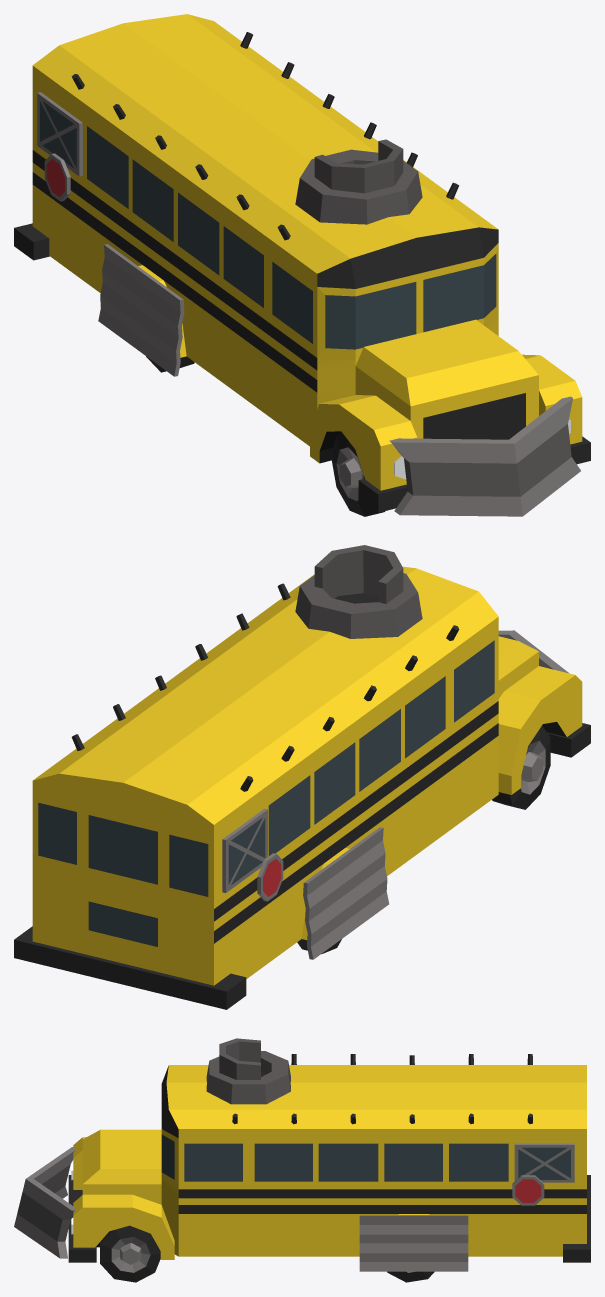
The model's file is vehicles_bus-school-apocalypse.fbx.
The picture shows the model from 3 angles, top to bottom: view 1: azimuth 30°, elevation 25°; view 2: azimuth 150°, elevation 25°; view 3: azimuth 270°, elevation 25°; orthographic projection. The views are drawn at different scales.
Parts seen in each view (by area): view 1: bus_school_base, bus_school_equipment, bus_school_wheel_FR; view 2: bus_school_base, bus_school_equipment, bus_school_wheel_FR; view 3: bus_school_base, bus_school_equipment, bus_school_wheel_FL, bus_school_wheel_BL.
Boxes of the visible parts, bbox=[...] form: bus_school_base: bbox=[14, 14, 590, 512]; bus_school_equipment: bbox=[37, 32, 580, 516]; bus_school_wheel_FR: bbox=[331, 433, 385, 516]; bus_school_base: bbox=[14, 566, 590, 1009]; bus_school_equipment: bbox=[71, 545, 568, 959]; bus_school_wheel_FR: bbox=[492, 725, 550, 809]; bus_school_base: bbox=[68, 1065, 590, 1262]; bus_school_equipment: bbox=[14, 1038, 574, 1271]; bus_school_wheel_FL: bbox=[100, 1225, 160, 1282]; bus_school_wheel_BL: bbox=[387, 1271, 434, 1282].
Size of the model in its own units: 62.09 by 77.44 by 200.
